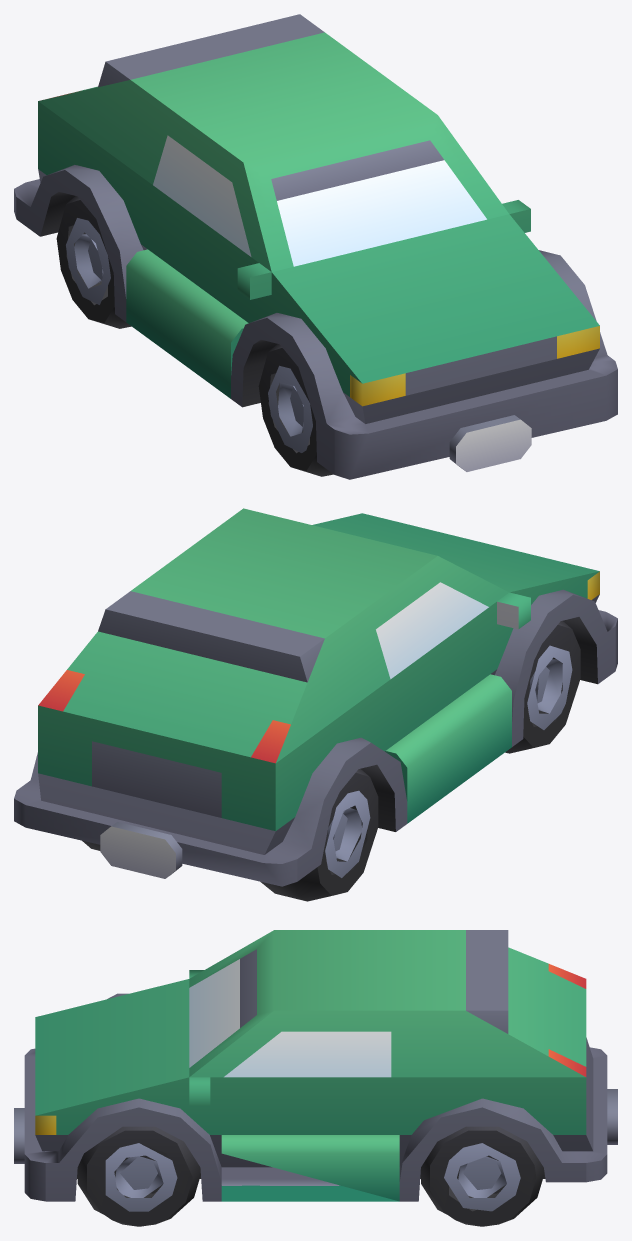
The model's file is cc0-hatchback-sports-lod1.glb.
3 views of the same model, one above another, from view 1: azimuth 30°, elevation 25°; view 2: azimuth 150°, elevation 25°; view 3: azimuth 270°, elevation 25° (orthographic). The views are drawn at different scales.
Parts seen in each view (by area): view 1: part_0; view 2: part_0; view 3: part_0.
Part boxes in pixels (<box>): part_0: <box>14,14,617,479</box>; part_0: <box>14,508,617,901</box>; part_0: <box>14,930,617,1226</box>.
Bounding box in the file's own units: 1.3 × 1.1 × 2.85.
1 material, 1 textured.
